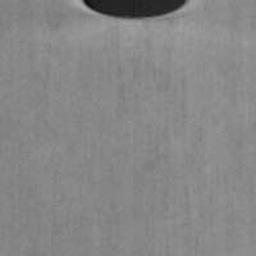Punching: (83, 0, 188, 20)
